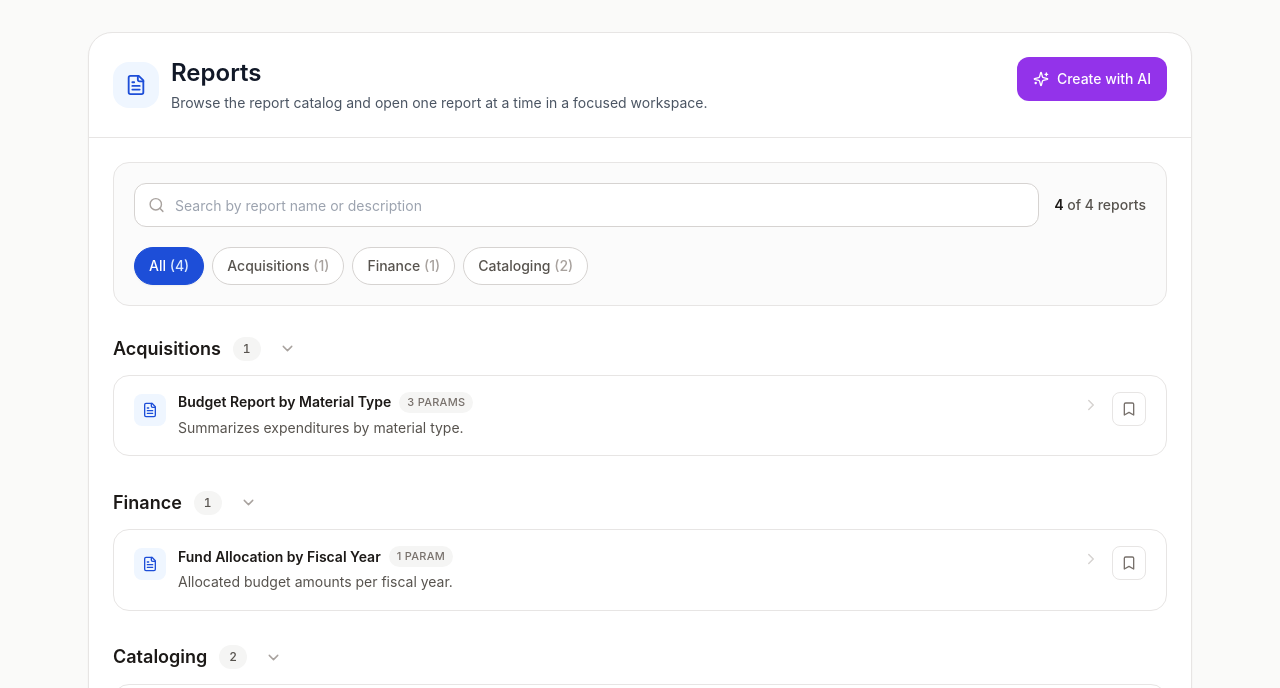
Reports › lets category sections collapse and reopen
The width and height of the screenshot is (1280, 688).
Expected: the heading "Acquisitions" is shown, [113,334,221,362]
Click the button named "Collapse Acquisitions section" at (287, 348), box [273,334,302,363]
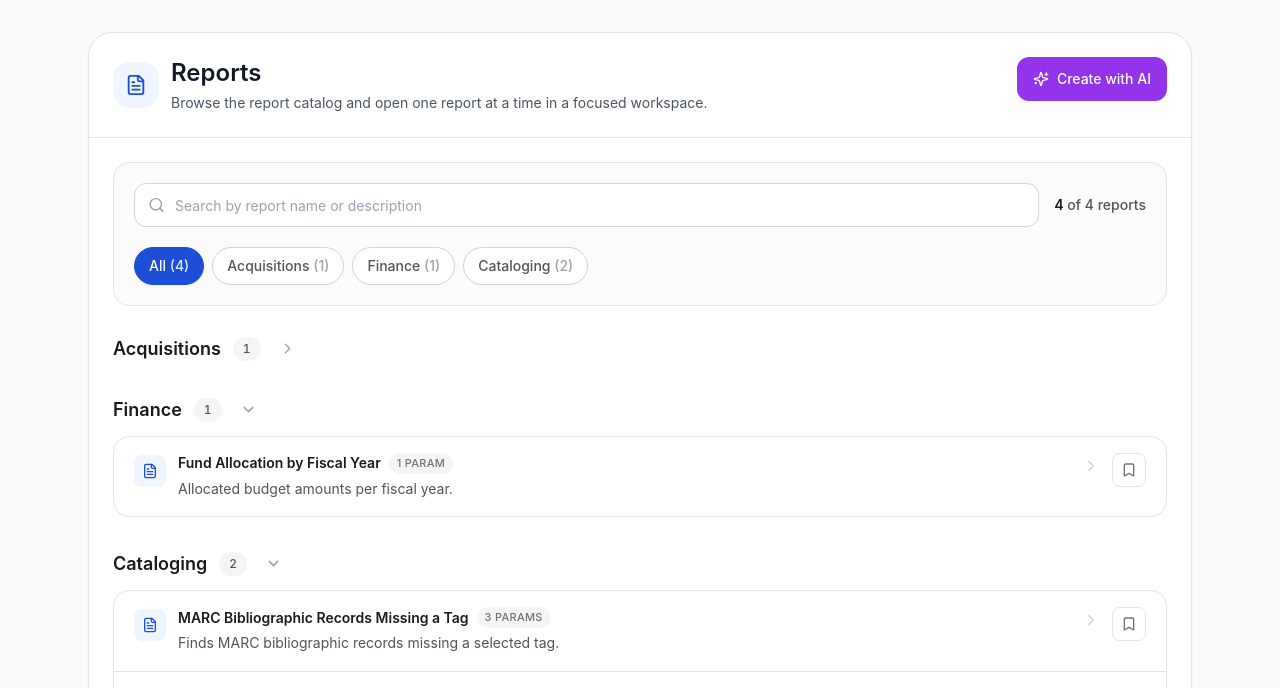
Result: the button "Budget Report by Material Type" is gone
Click the button named "Expand Acquisitions section" at (287, 348), box [273,334,302,363]
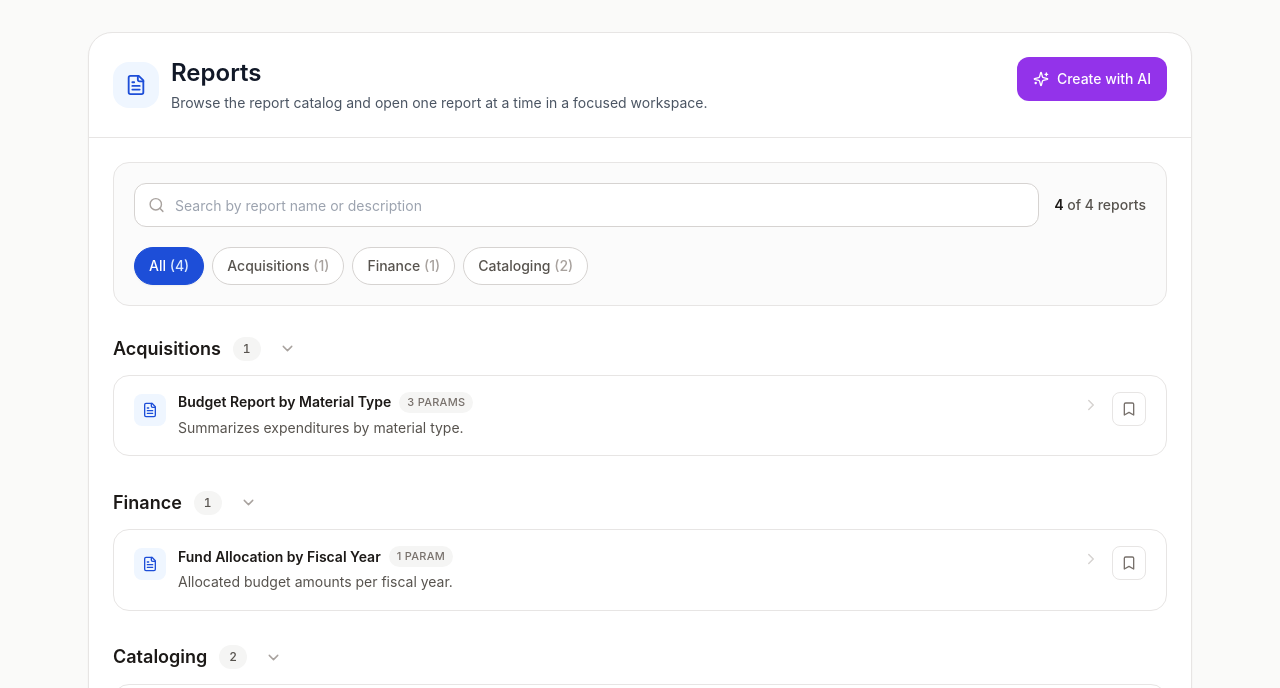
Result: the text "Budget Report by Material Type" is shown at [178,392,391,412]
